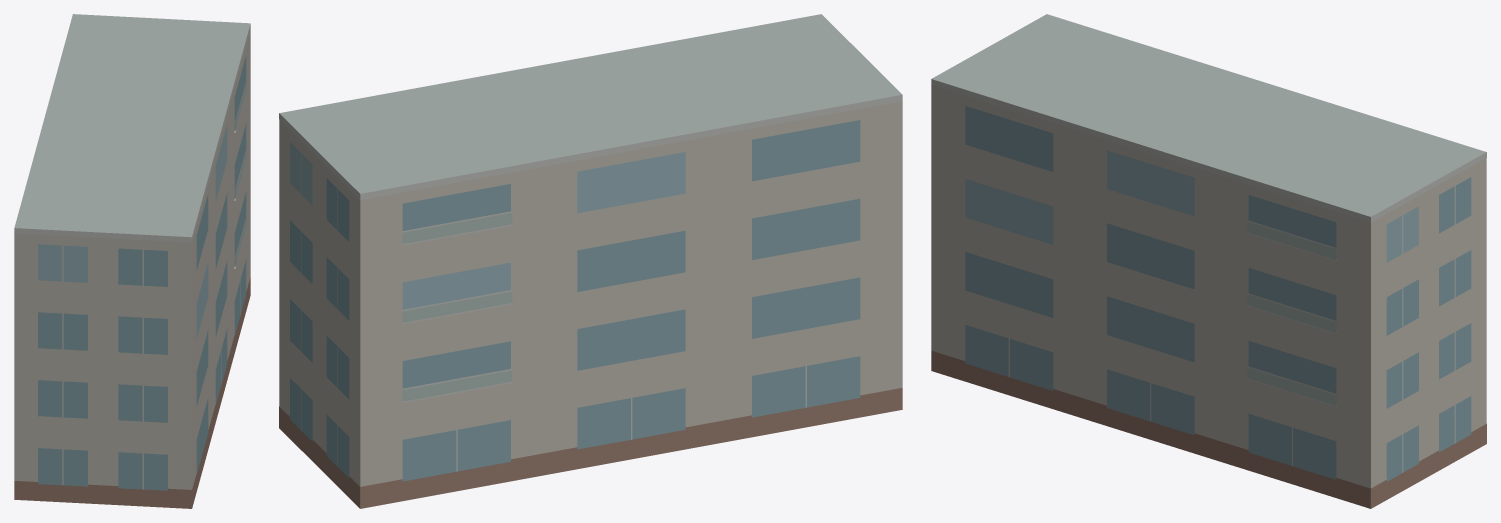
The model's file is survey-upis-32570078.glb.
3 views of the same model, side by side, from view 1: azimuth 30°, elevation 25°; view 2: azimuth 150°, elevation 25°; view 3: azimuth 270°, elevation 25° (orthographic). The views are drawn at different scales.
Parts seen in each view (by area): view 1: survey-upis-32570078.tmp; view 2: survey-upis-32570078.tmp; view 3: survey-upis-32570078.tmp.
Boxes of the visible parts, <box> form: survey-upis-32570078.tmp: <box>14,14,250,508</box>; survey-upis-32570078.tmp: <box>279,14,902,508</box>; survey-upis-32570078.tmp: <box>931,14,1486,508</box>.
Bounding box in the file's own units: 18.2 × 12.2 × 21.05.
